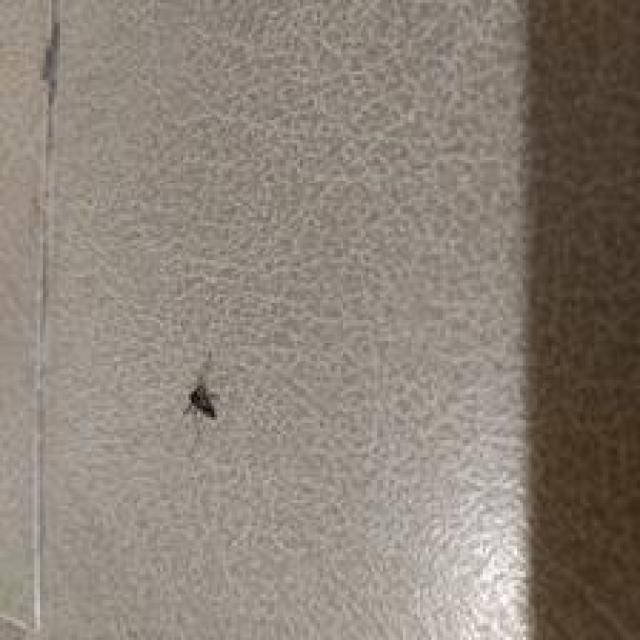Aedes albopictus: (182, 380, 218, 420)
